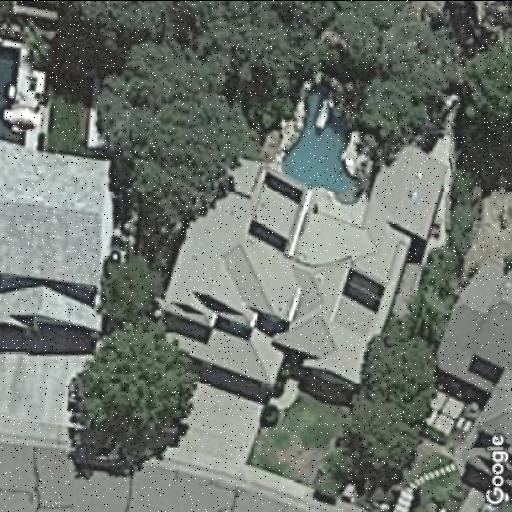solar-panel: (338, 264, 388, 314), (246, 216, 290, 256), (260, 168, 306, 206)
